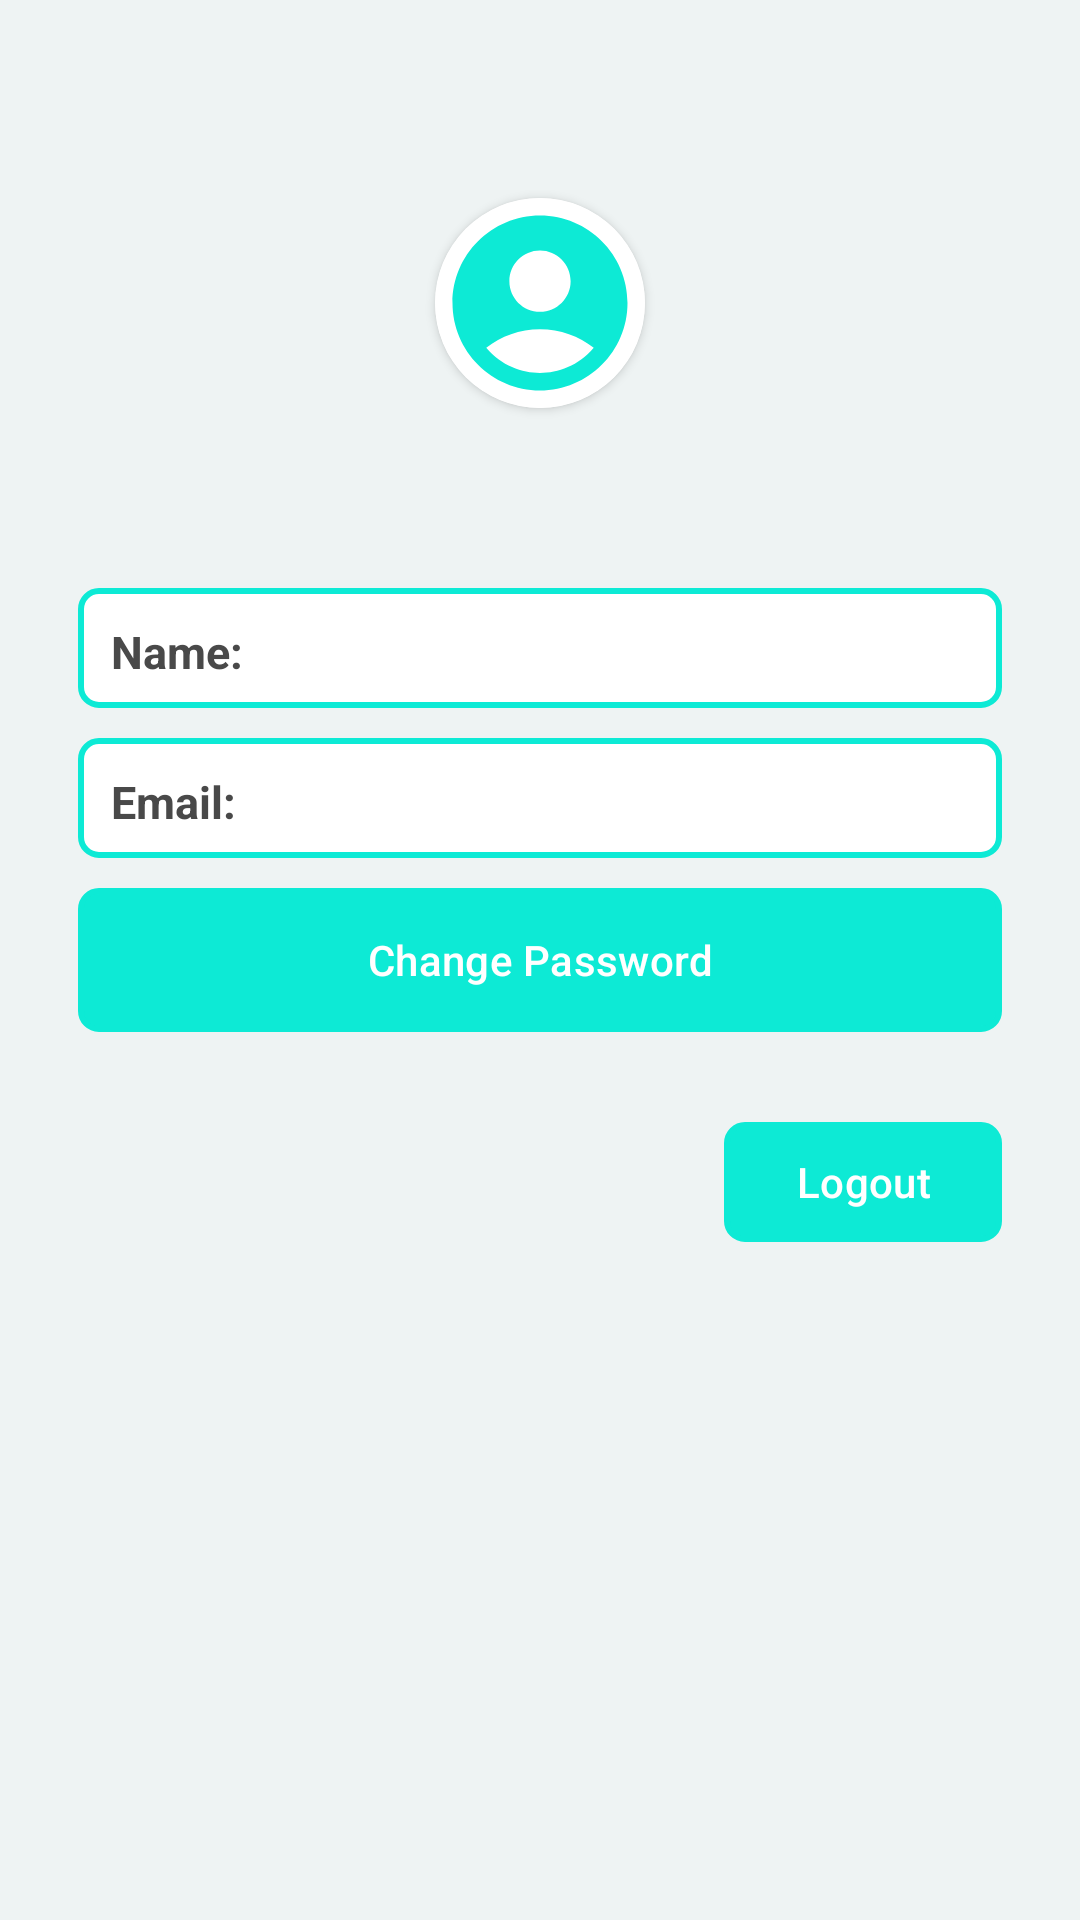

Named icons in this screenshot (1080px x 1920px) and their centers, [x,y]:
profile: [540,311]
